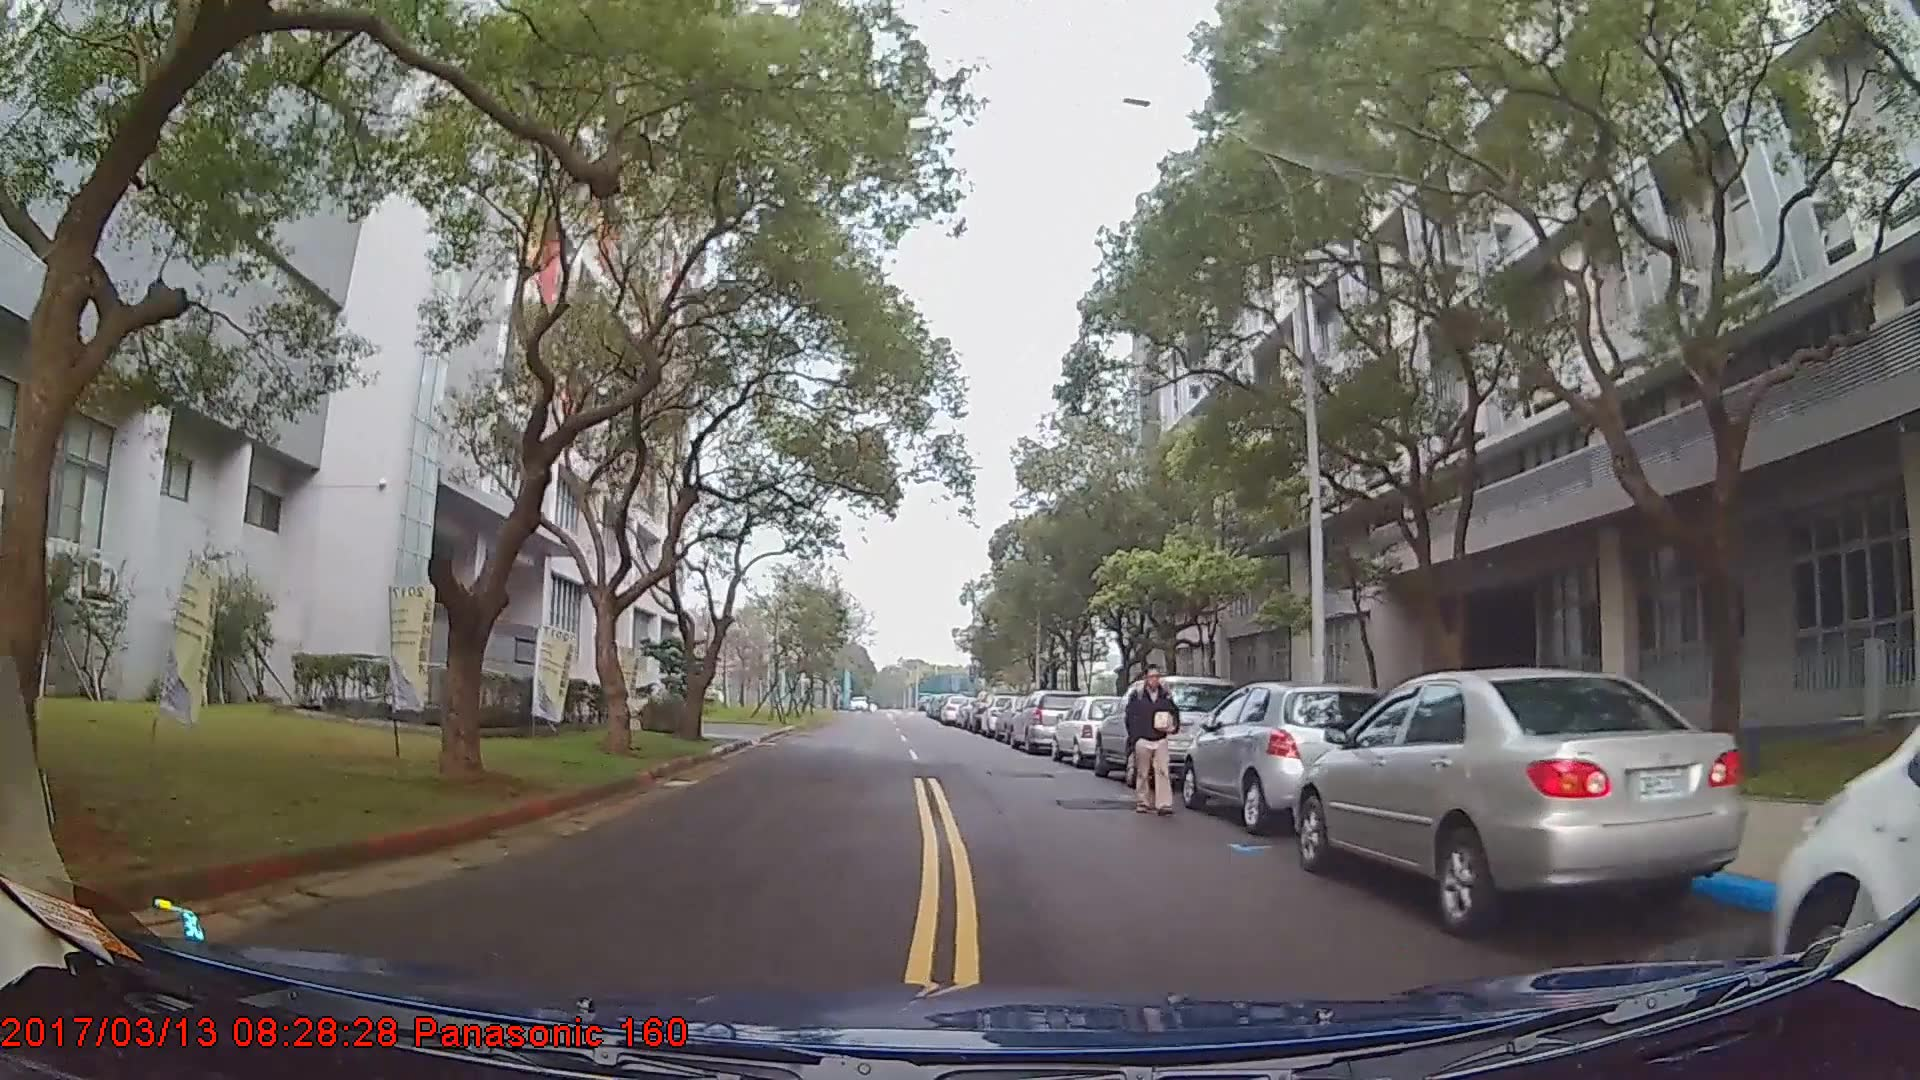pedestrian: (1129, 665, 1187, 814)
vehicle: (1292, 665, 1747, 940), (1181, 679, 1390, 832), (1094, 673, 1244, 786), (1049, 692, 1133, 767), (1008, 689, 1090, 752)
